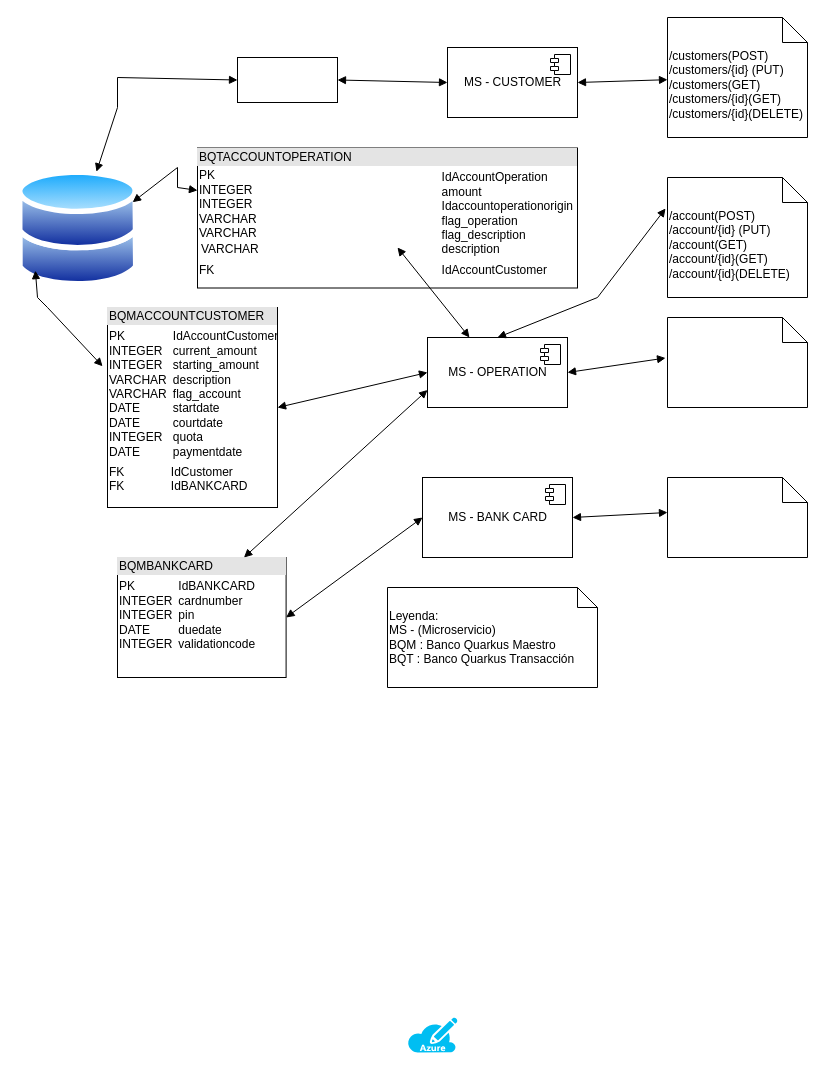
Image size: 825x1070. Some labels were removed from this diagram. Here are the shapes that lost their labels. From the top down, the centre of each, then its label:
At [287,79]: "BQMCUSTOMER PK IdCustomer".
At [77,228]: "PostgresSQL".
At [737,362]: "/operation(POST) / operation (GET) /operation/{id}(GET)".
At [737,517]: "/card(POST)".
